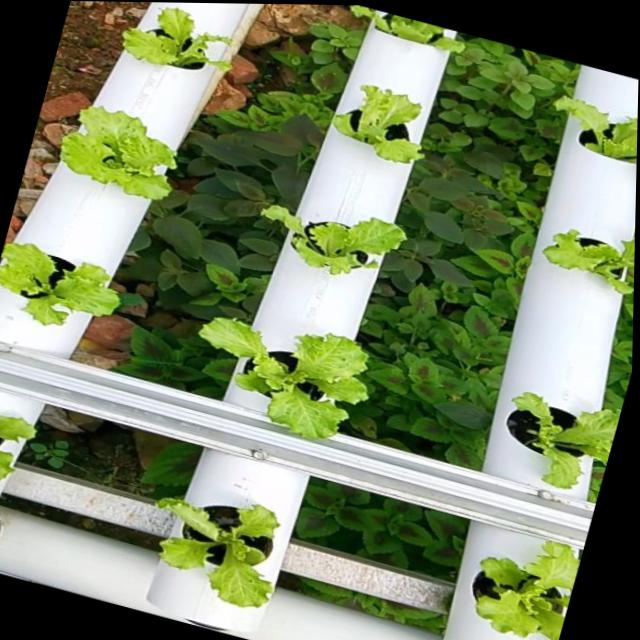Baby: (195, 317, 365, 437), (153, 496, 277, 607), (502, 392, 620, 488), (56, 105, 173, 200), (469, 540, 579, 640), (258, 204, 403, 274), (0, 242, 117, 325), (328, 85, 419, 163), (118, 7, 228, 71), (538, 229, 635, 294), (551, 96, 638, 163), (0, 415, 32, 442), (0, 450, 10, 478)
